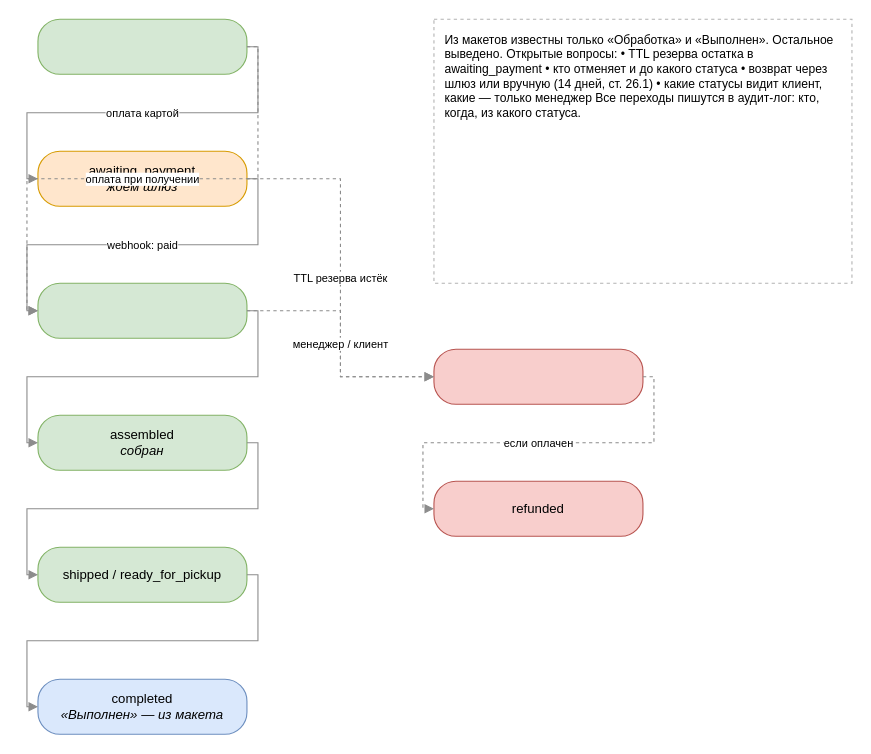
Image size: 871x754. Some labels were removed from this diagram. The centre of each missing label's shape, as x and y in pixels:
cancelled: the point at 538,376
new заказ создан: the point at 142,46
processing «Обработка» — из макета: the point at 142,310
